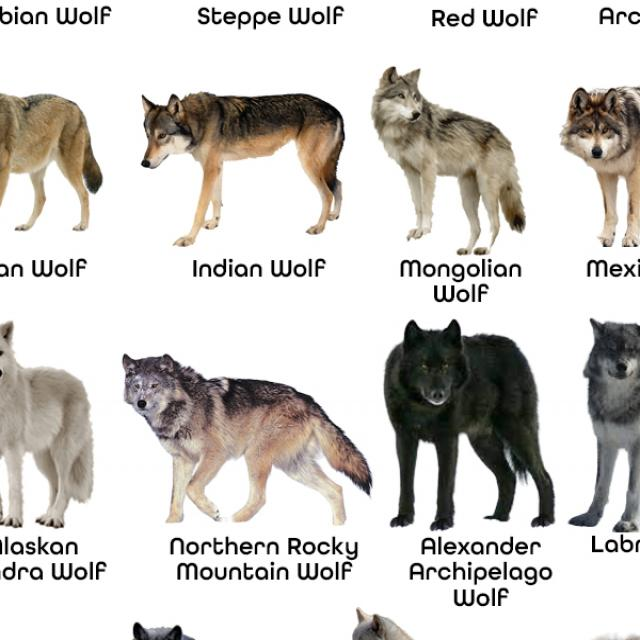wolf: (104, 327, 380, 532), (346, 298, 561, 534), (346, 41, 556, 261), (134, 76, 364, 248), (0, 325, 111, 530), (550, 294, 640, 538), (0, 66, 122, 245), (533, 59, 640, 257)
